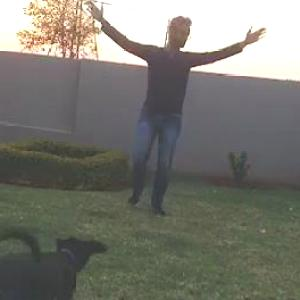takeoff: (83, 5, 265, 210)
